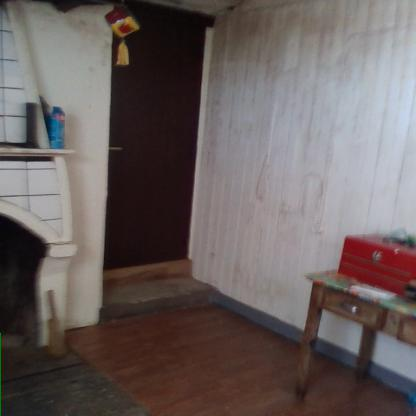door: (107, 6, 198, 262)
lever: (106, 146, 124, 152)
